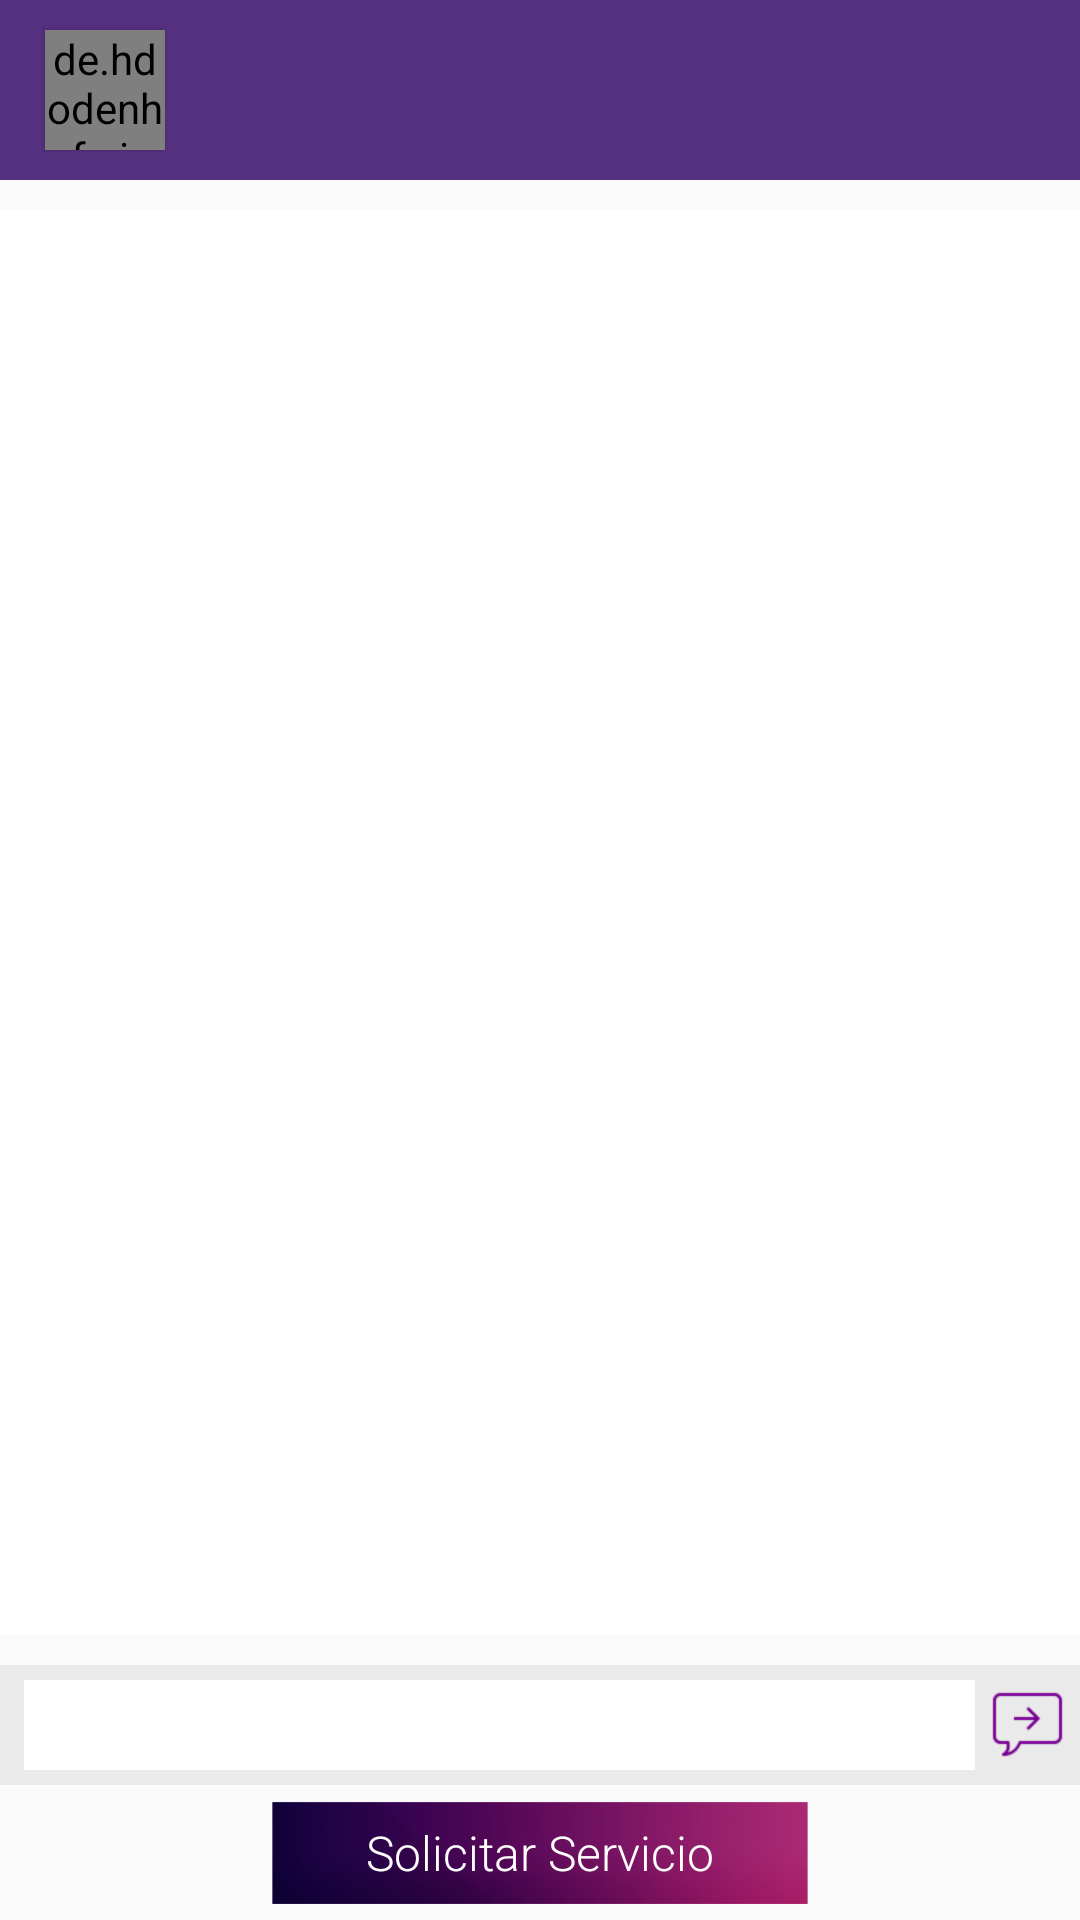

Point at icon controls on the screen. Image size 1080 × 1920, points as [x,y].
send message: [1027,1724]
